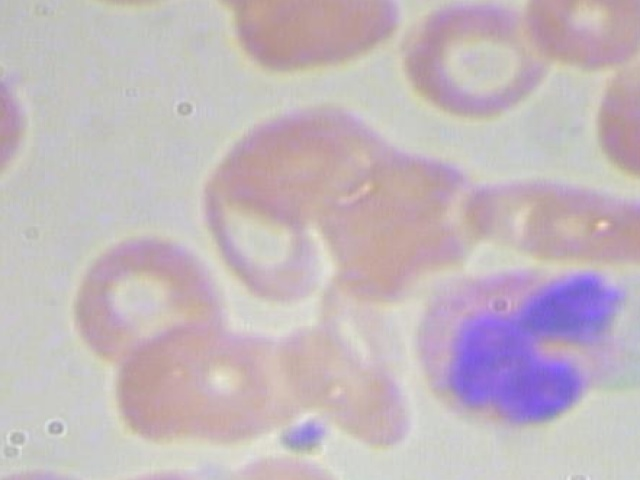Platelets: (274, 410, 330, 454)
RBC: (58, 232, 236, 367), (180, 174, 342, 308), (213, 102, 389, 216), (335, 140, 498, 259), (395, 0, 553, 121), (144, 317, 283, 443), (229, 0, 407, 80), (519, 179, 640, 265), (515, 0, 640, 76), (0, 56, 61, 191), (583, 56, 640, 185), (52, 0, 204, 14)
WBC: (409, 256, 639, 436)
